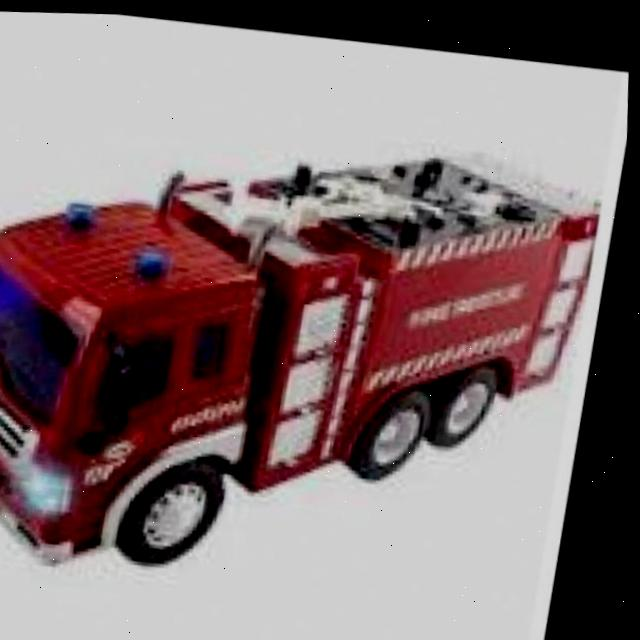emergency: (0, 120, 617, 591)
